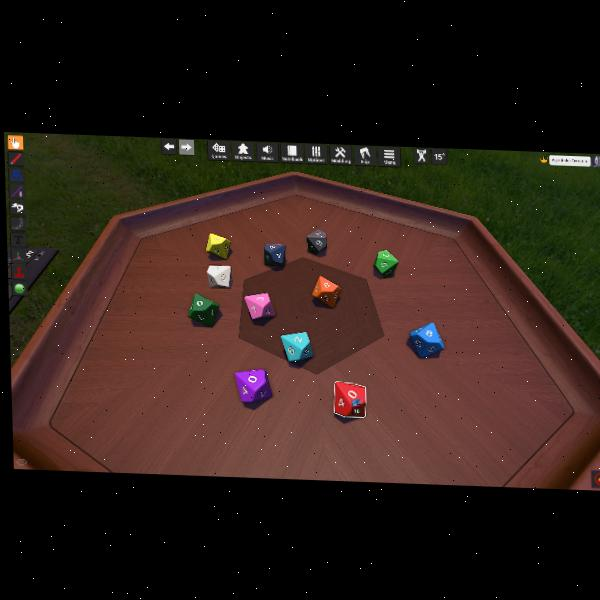d10: (332, 380, 367, 419), (235, 367, 271, 403), (410, 320, 442, 358), (189, 292, 221, 326), (281, 330, 313, 362), (311, 275, 341, 308), (244, 292, 275, 321), (374, 249, 398, 277), (206, 231, 230, 259), (207, 263, 231, 287), (263, 243, 286, 267), (306, 230, 326, 255)
